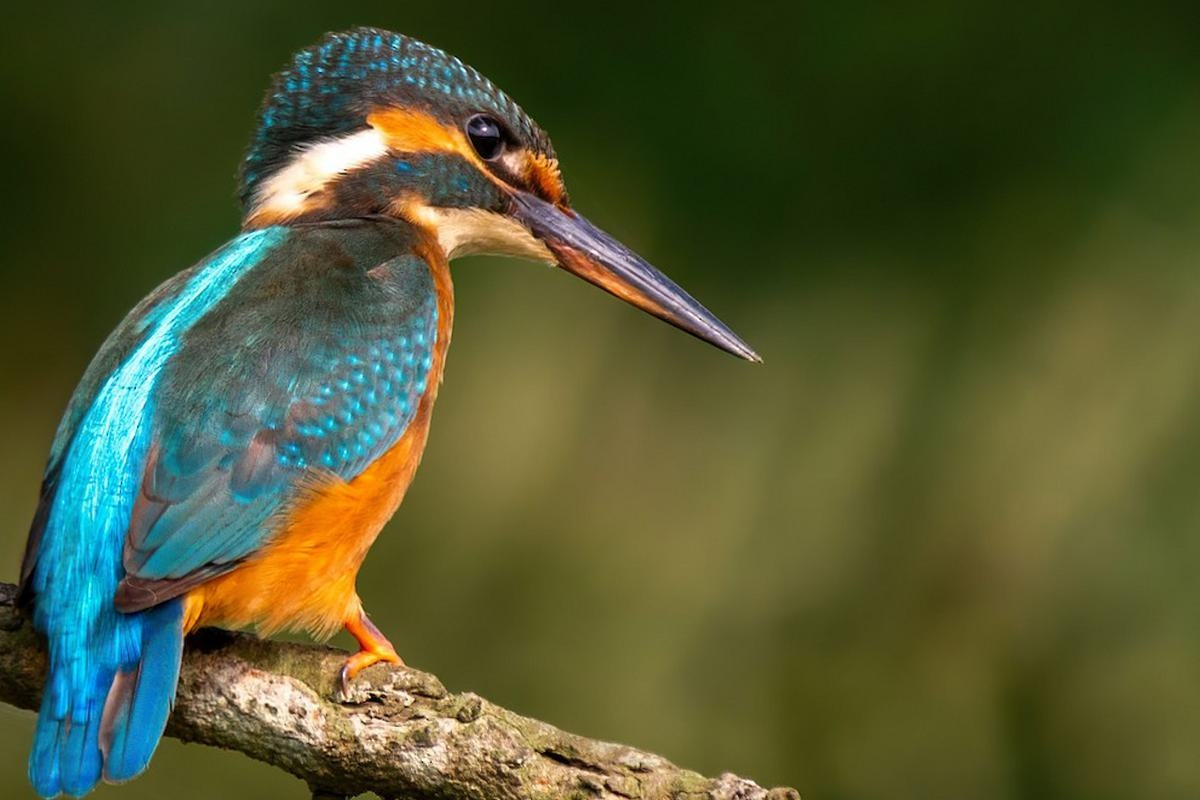kingfisher: (1, 11, 796, 748)
